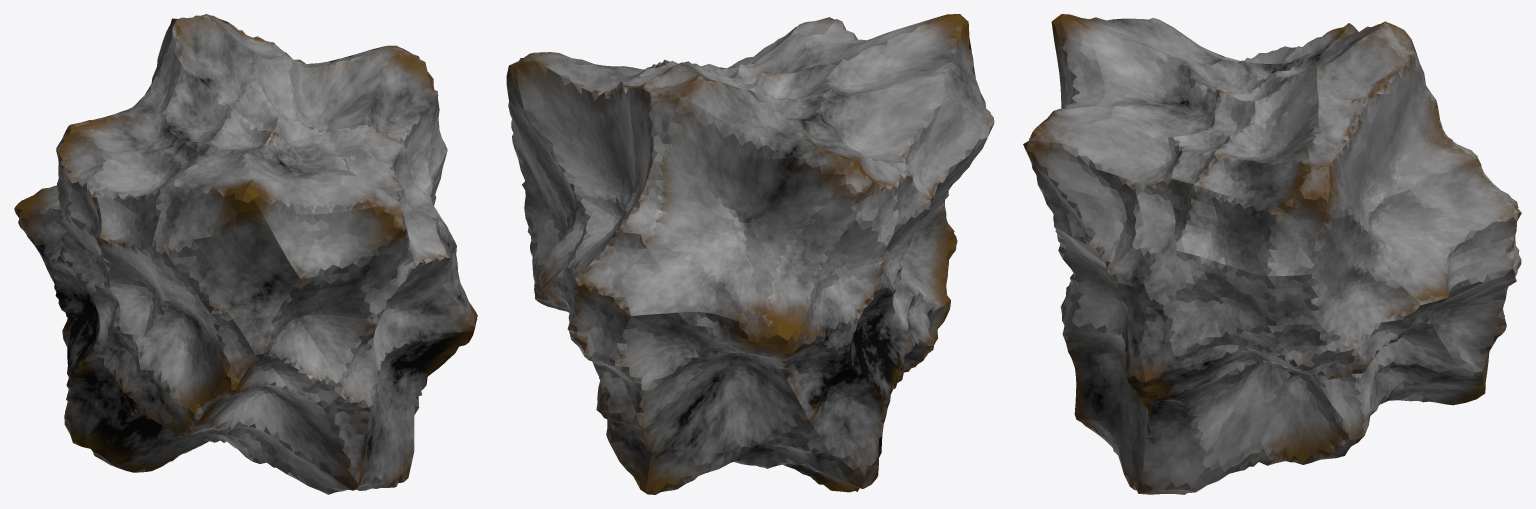
Rendered from rock.fbx.
The picture shows the model from 3 angles, left to right: view 1: azimuth 30°, elevation 25°; view 2: azimuth 150°, elevation 25°; view 3: azimuth 270°, elevation 25°; orthographic projection. The views are drawn at different scales.
Parts seen in each view (by area): view 1: Icosphere; view 2: Icosphere; view 3: Icosphere.
Boxes of the visible parts, x1=… form: Icosphere: x1=14, y1=14, x2=477, y2=494; Icosphere: x1=506, y1=14, x2=994, y2=494; Icosphere: x1=1023, y1=14, x2=1521, y2=494.
Size of the model in its own units: 201 by 215 by 231.
